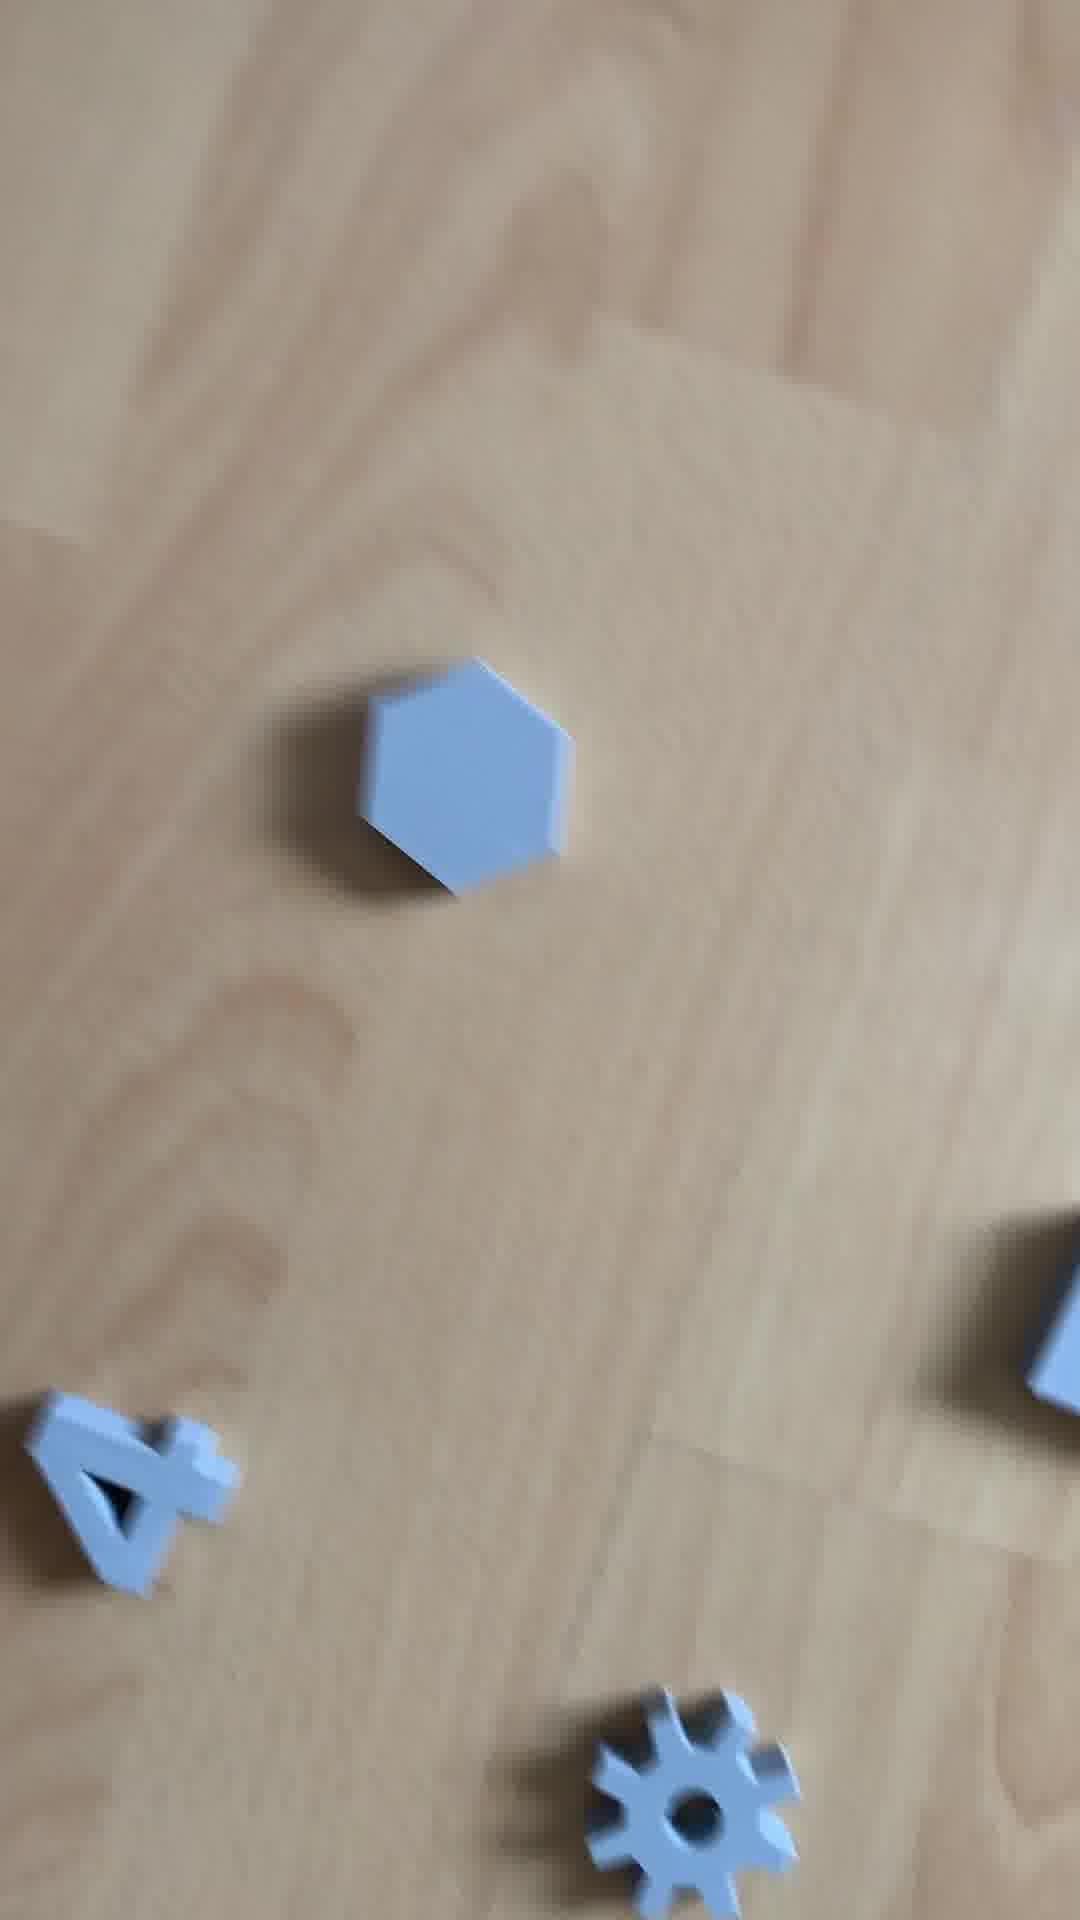Gray four: (26, 1367, 247, 1596)
Gray gear: (584, 1677, 798, 1920)
Gray hexagon: (343, 655, 582, 899)
